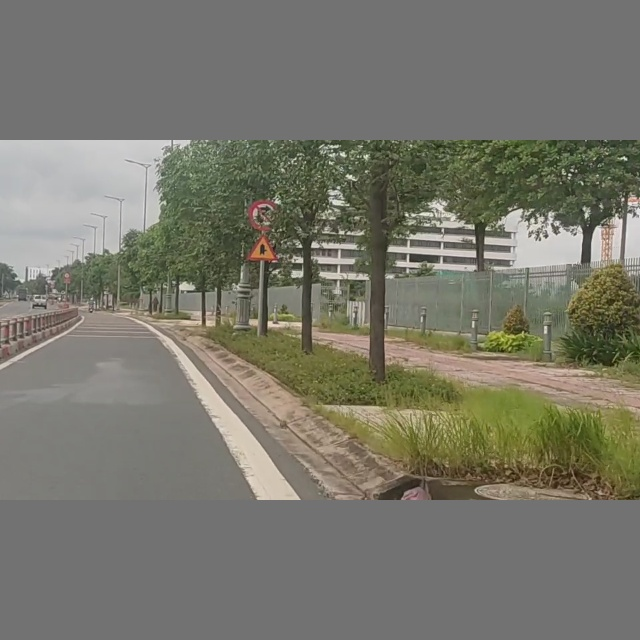P.123b: (247, 201, 279, 229)
W.207: (247, 233, 278, 263)
